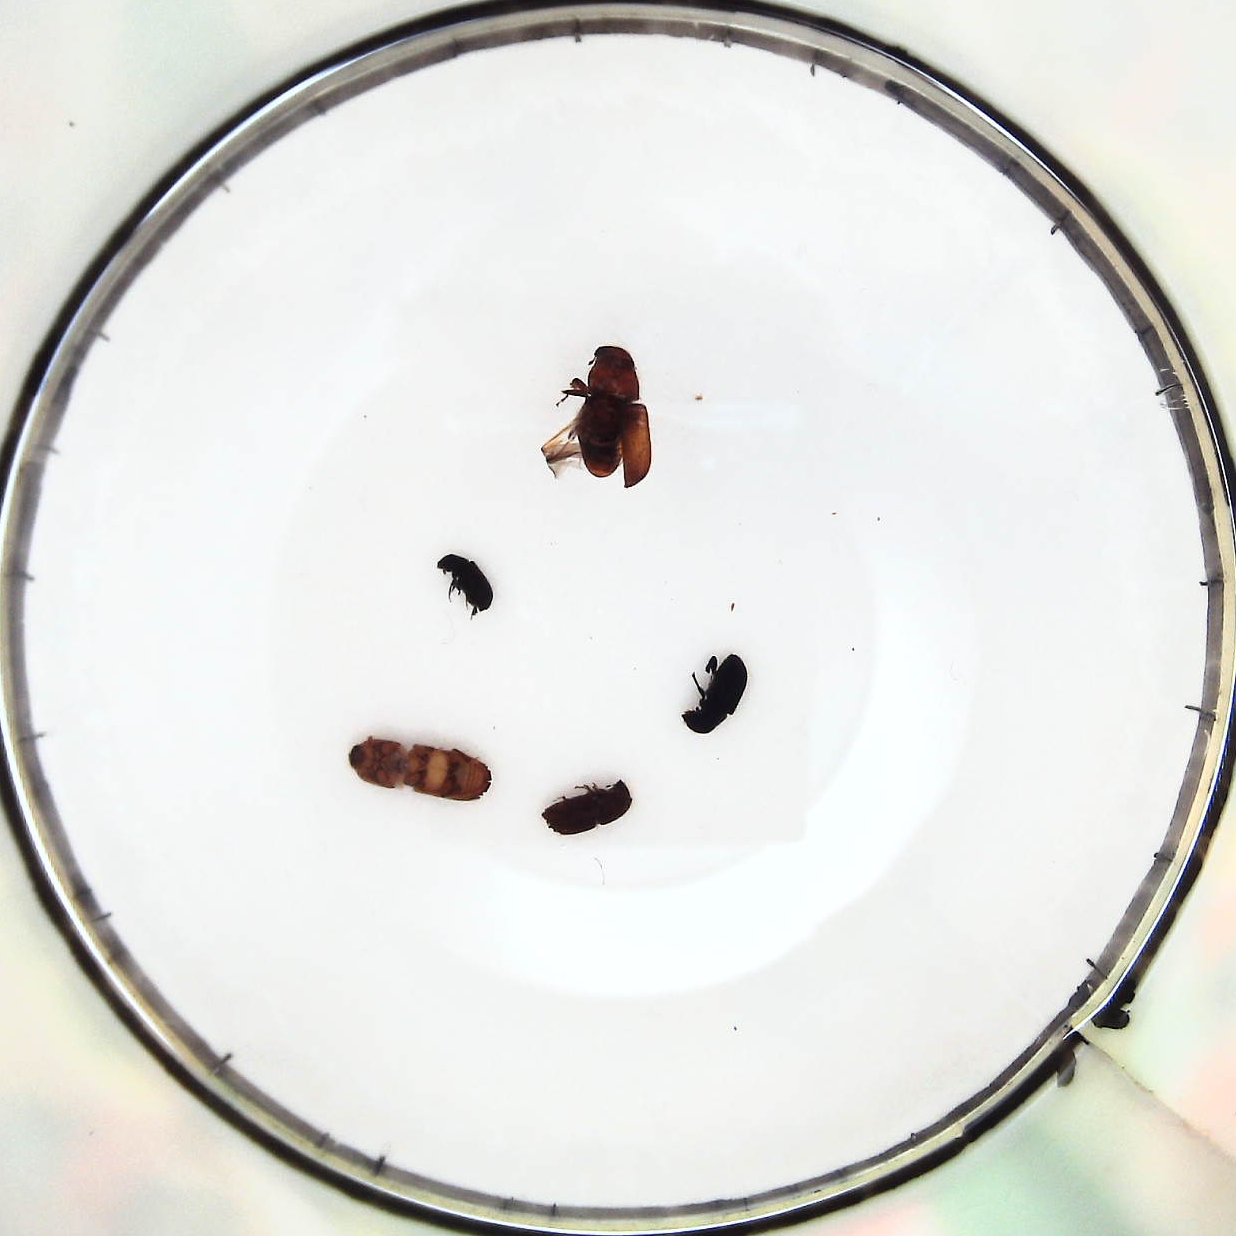Boerner: (344, 740, 490, 806)
Leconte: (544, 340, 656, 496)
Linnaeus: (544, 781, 629, 847)
armandi: (676, 652, 752, 737)
coleoptera: (437, 547, 498, 620)
